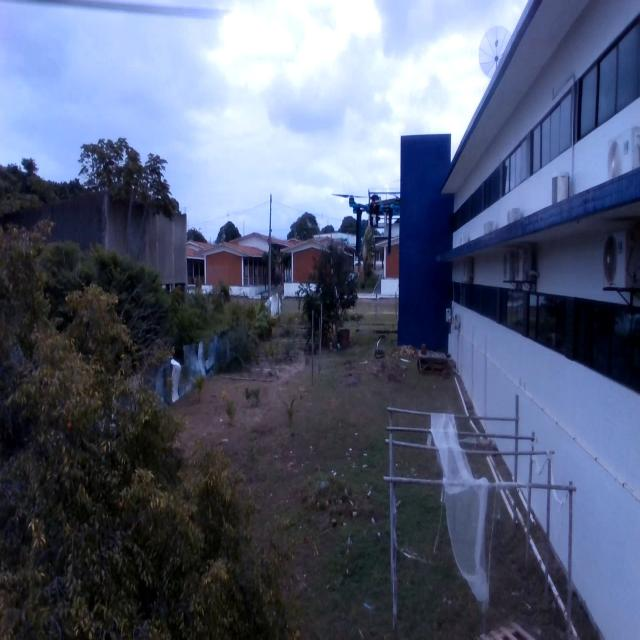-uav-: (329, 166, 411, 262)
